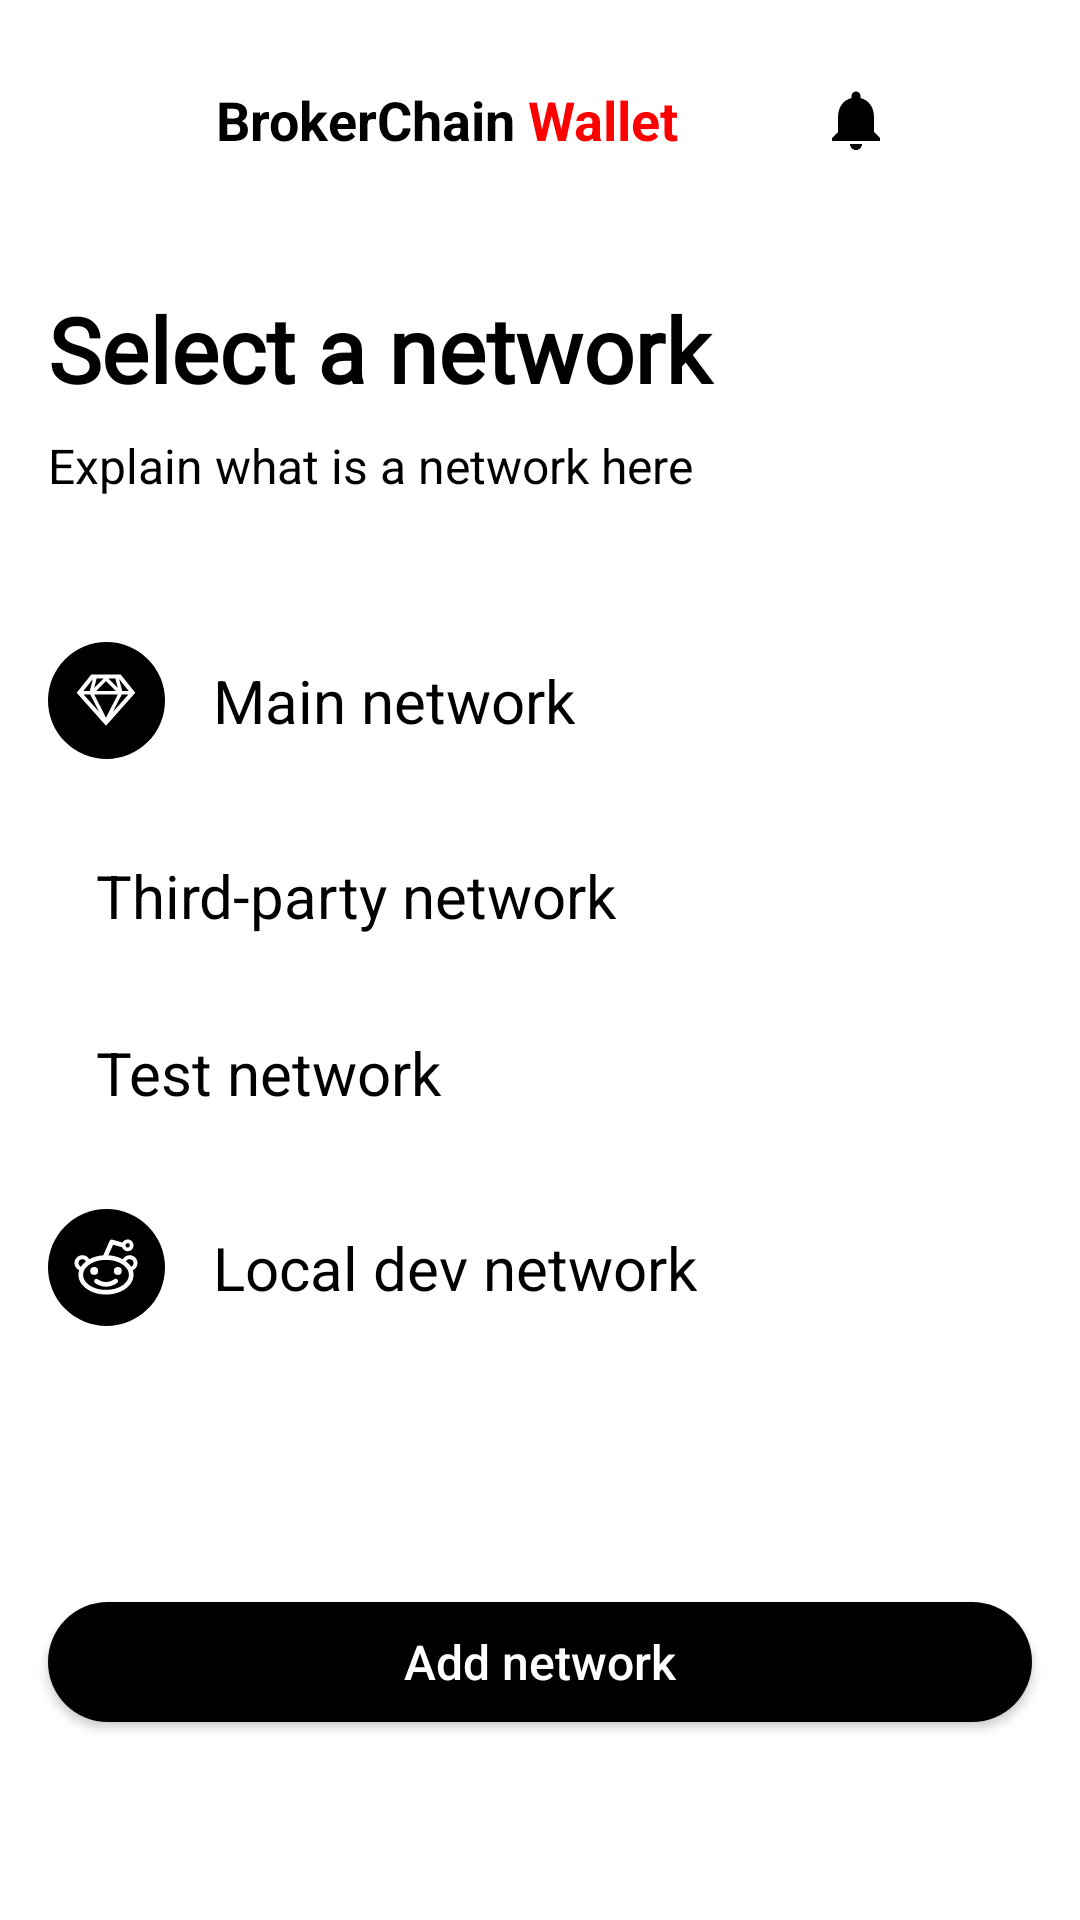

Locate icon controls on the screen. Image size 1080 × 1920, boxes as (x1, y1, x2, y2).
Notifications: (832, 91, 880, 150)
